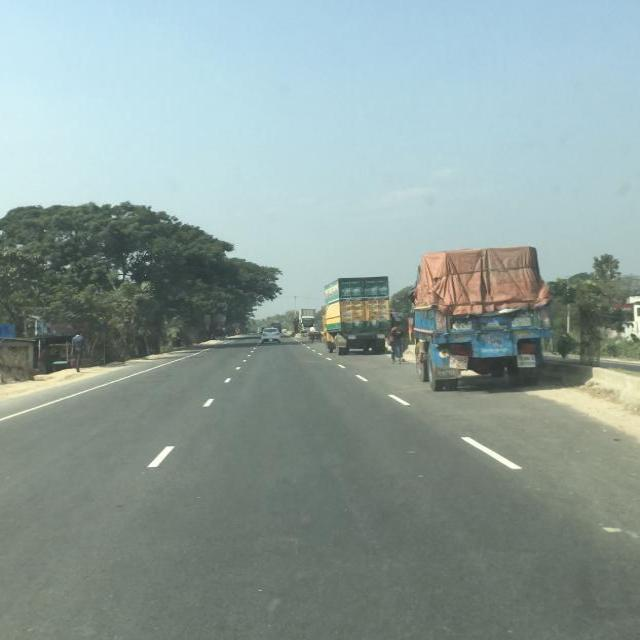car: (258, 323, 281, 345)
truck: (406, 240, 548, 393), (320, 271, 390, 358), (297, 307, 313, 329)
